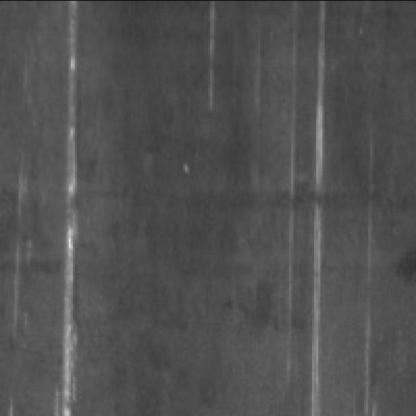scratches: (52, 52, 90, 412), (310, 0, 341, 406)
